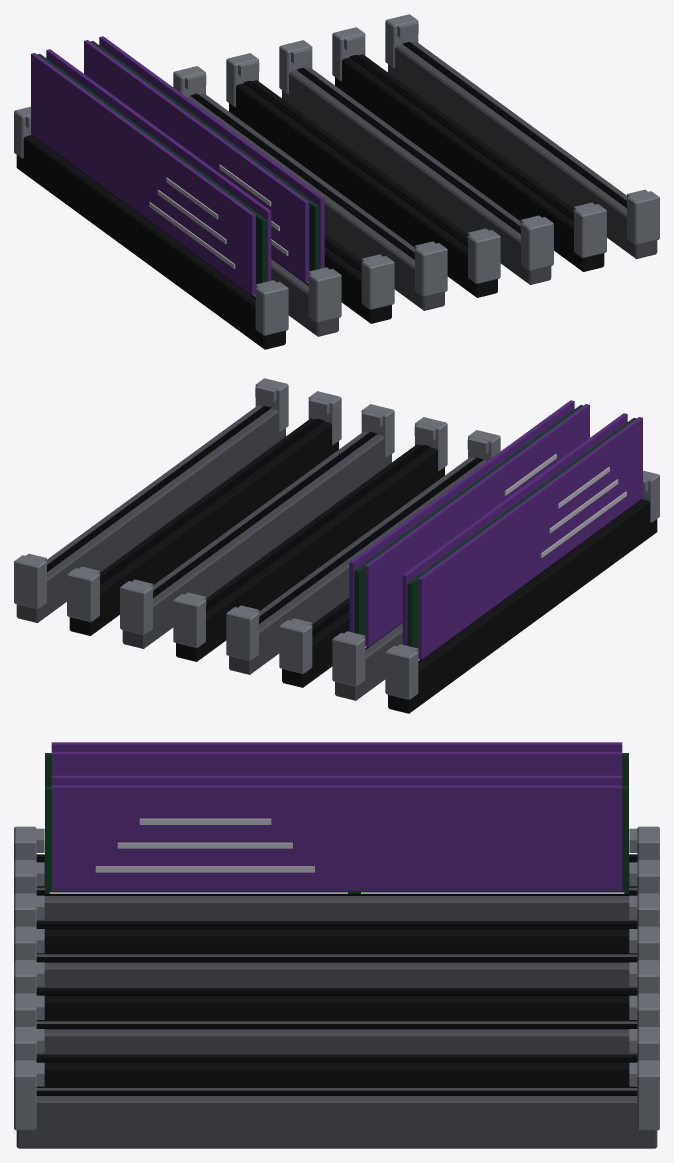
File: hwm_ram_ddr2_6gb.glb
3 views of the same model, one above another, from view 1: azimuth 30°, elevation 25°; view 2: azimuth 150°, elevation 25°; view 3: azimuth 270°, elevation 25° (orthographic). The views are drawn at different scales.
Visible parts, largest first — view 1: Slots, Stick_0, Stick_1, Latch_0_1, Latch_1_1, Latch_2_1, Latch_5_1, Latch_3_1, Latch_4_1, Latch_6_1, Latch_7_1, Latch_5_0 (+5 smaller); view 2: Slots, Stick_0, Stick_1, Latch_0_0, Latch_1_0, Latch_2_0, Latch_5_0, Latch_3_0, Latch_4_0, Latch_6_0, Latch_7_0, Latch_5_1 (+5 smaller); view 3: Slots, Stick_1, Stick_0, Latch_7_0, Latch_7_1, Latch_1_0, Latch_1_1, Latch_2_0, Latch_2_1, Latch_4_0, Latch_4_1, Latch_5_0 (+7 smaller).
Part boxes in pixels (x1,y1,x2,y2): Slots: (16,41,657,349); Stick_0: (31,49,271,296); Stick_1: (84,36,324,283); Latch_0_1: (255,280,288,335); Latch_1_1: (308,267,341,322); Latch_2_1: (361,254,394,309); Latch_5_1: (520,215,553,270); Latch_3_1: (414,241,447,296); Latch_4_1: (467,228,500,283); Latch_6_1: (574,202,606,257); Latch_7_1: (627,189,659,245); Latch_5_0: (279,40,312,93); Slots: (16,405,657,713); Stick_0: (402,413,642,660); Stick_1: (349,400,589,647); Latch_0_0: (385,644,418,699); Latch_1_0: (332,631,365,686); Latch_2_0: (279,618,312,673); Latch_5_0: (120,579,153,634); Latch_3_0: (226,605,259,660); Latch_4_0: (173,592,206,647); Latch_6_0: (67,566,99,621); Latch_7_0: (14,553,46,609); Latch_5_1: (361,404,394,457); Slots: (16,854,657,1148); Stick_1: (45,775,628,893); Stick_0: (45,742,628,786); Latch_7_0: (629,1060,659,1130); Latch_7_1: (14,1060,44,1130); Latch_1_0: (629,860,659,894); Latch_1_1: (14,860,44,894); Latch_2_0: (629,893,659,927); Latch_2_1: (14,893,44,927); Latch_4_0: (629,960,659,994); Latch_4_1: (14,960,44,994); Latch_5_0: (629,993,659,1027).
Bounding box in the file's own units: 0.1346 × 0.0404 × 0.1472.
